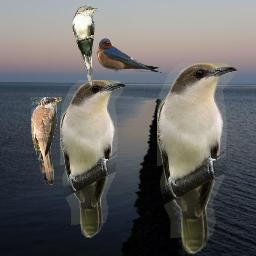Cuckoo: (157, 63, 238, 255), (60, 80, 127, 239), (31, 97, 62, 185), (72, 5, 98, 87)
Swallow: (96, 38, 166, 74)
